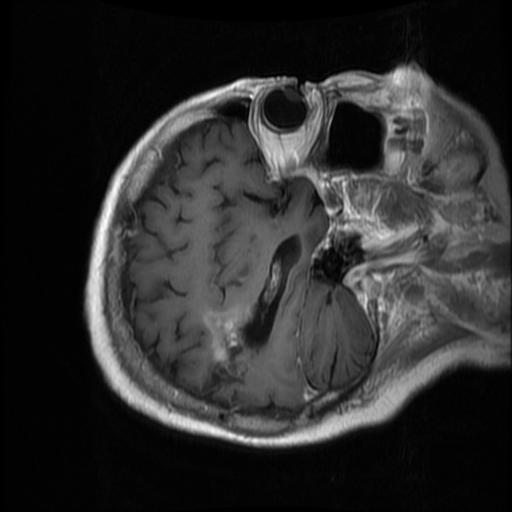glioma: (203, 234, 300, 366)
